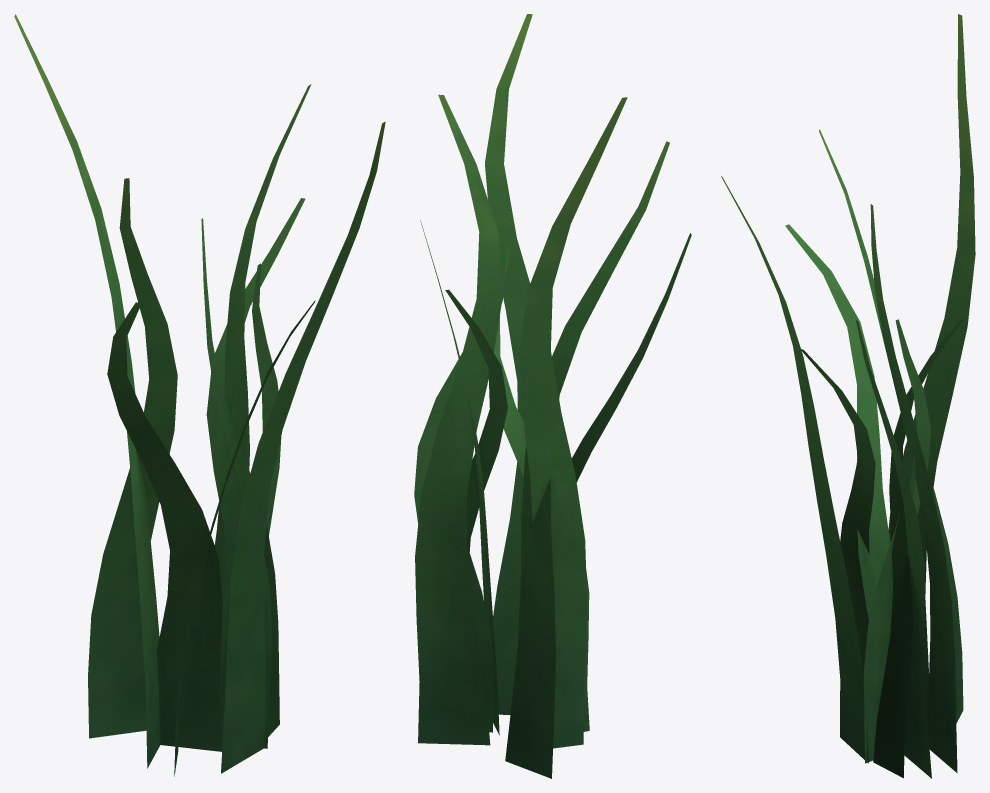
Rendered from waterweed.glb.
3 views of the same model, side by side, from view 1: azimuth 30°, elevation 25°; view 2: azimuth 150°, elevation 25°; view 3: azimuth 270°, elevation 25° (orthographic). The views are drawn at different scales.
Visible parts, largest first — view 1: waterweed; view 2: waterweed; view 3: waterweed.
Boxes of the visible parts, box(x1,y1,x2,y2) form: waterweed: box(14, 14, 385, 776); waterweed: box(414, 14, 691, 778); waterweed: box(721, 14, 975, 778).
Bounding box in the file's own units: 0.2985 × 0.8272 × 0.2888.
Materials: 1 (1 with a texture image).
